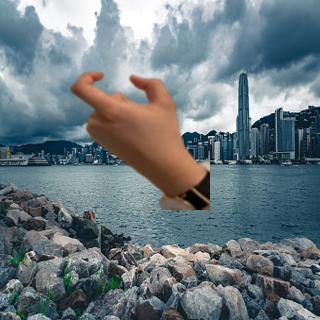HATE: (67, 67, 185, 170)
